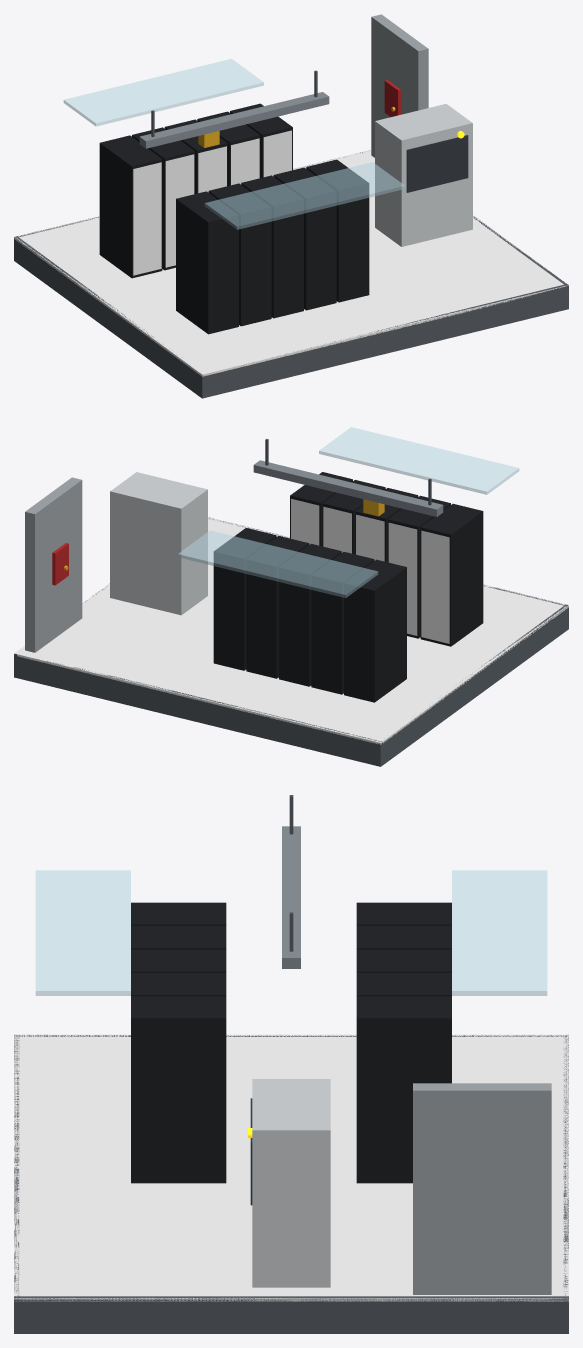
File: equipment--dataHall.glb
3 views of the same model, one above another, from view 1: azimuth 30°, elevation 25°; view 2: azimuth 150°, elevation 25°; view 3: azimuth 270°, elevation 25° (orthographic). The views are drawn at different scales.
Visible parts, largest first — view 1: floor, racksB, racksA, dataHall:shell, crah, busway, suppressionPanel; view 2: floor, racksA, dataHall:shell, racksB, crah, busway, suppressionPanel; view 3: floor, dataHall:shell, racksB, racksA, crah, busway.
Part boxes in pixels (left/top/right/bottom): floor: left=14, top=150, right=568, bottom=398; racksB: left=176, top=159, right=369, bottom=334; racksA: left=99, top=103, right=292, bottom=278; dataHall:shell: left=63, top=14, right=428, bottom=229; crah: left=375, top=103, right=472, bottom=246; busway: left=139, top=70, right=329, bottom=148; suppressionPanel: left=384, top=80, right=400, bottom=116; floor: left=14, top=517, right=568, bottom=766; racksA: left=213, top=528, right=406, bottom=702; dataHall:shell: left=25, top=427, right=519, bottom=652; racksB: left=290, top=472, right=483, bottom=646; crah: left=110, top=472, right=207, bottom=615; busway: left=253, top=439, right=443, bottom=516; suppressionPanel: left=52, top=543, right=68, bottom=585; floor: left=14, top=1034, right=568, bottom=1333; dataHall:shell: left=35, top=870, right=551, bottom=1294; racksB: left=131, top=902, right=226, bottom=1183; racksA: left=356, top=902, right=451, bottom=1183; crah: left=250, top=1079, right=330, bottom=1287; busway: left=282, top=795, right=300, bottom=968.
Size of the model in its own units: 7.2 by 3.9 by 6.4.
